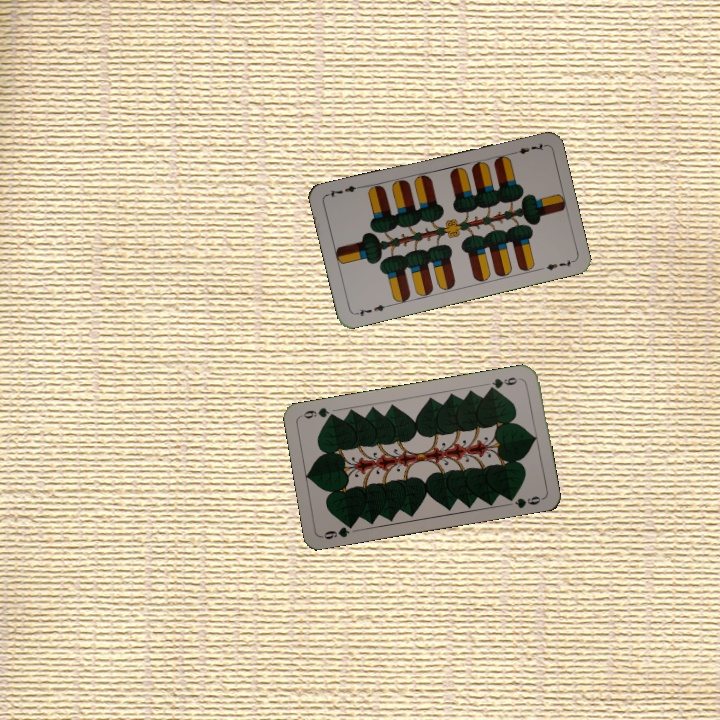E7: (352, 300, 392, 319), (507, 139, 547, 157)
G9: (318, 519, 357, 542), (485, 373, 524, 393)
